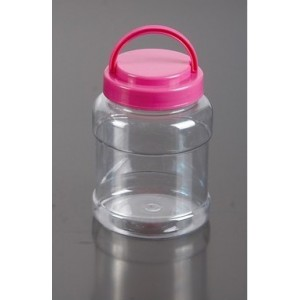Rec_Plastic: (68, 27, 224, 250)
